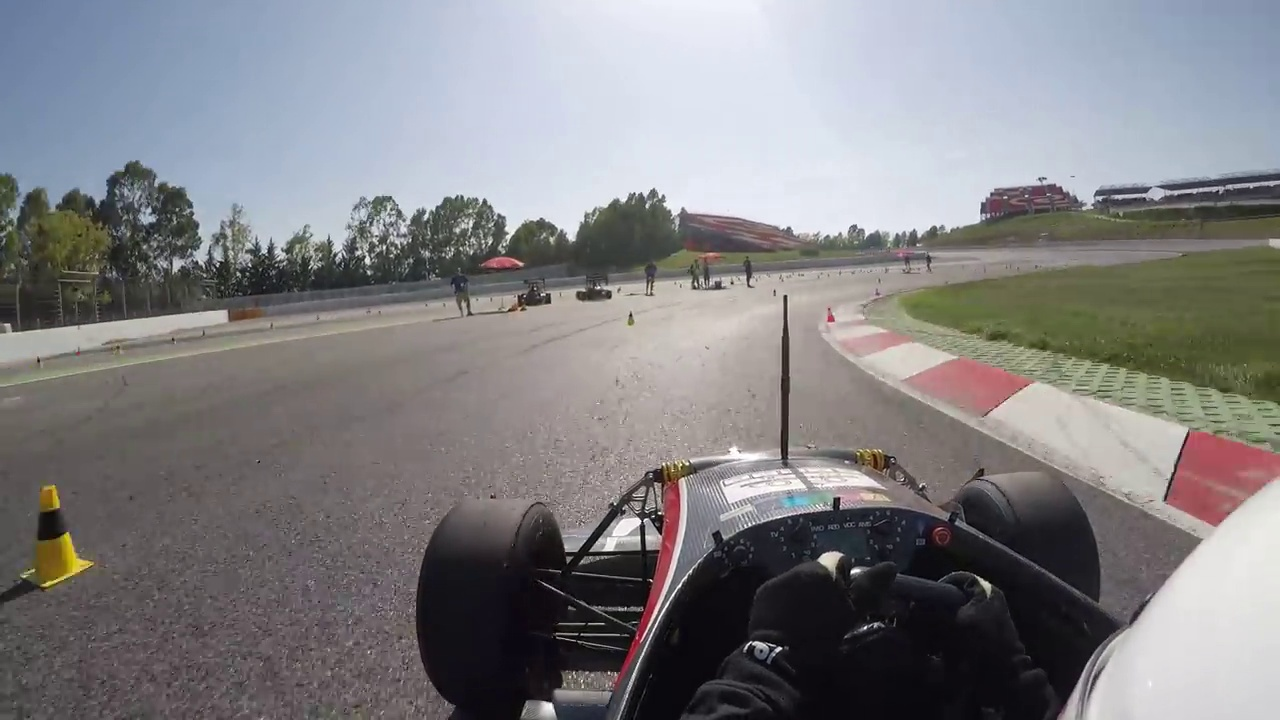Cone: (22, 481, 88, 588)
